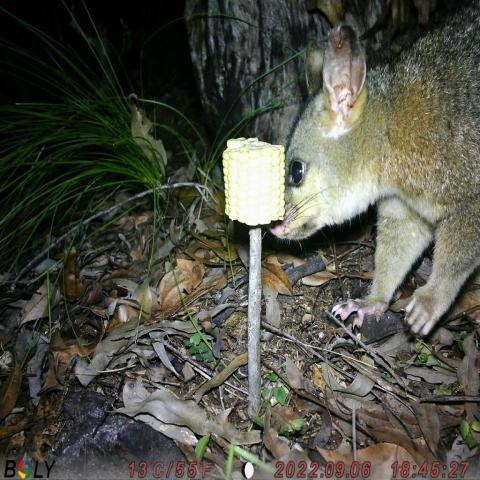small_animal: (264, 4, 478, 340)
